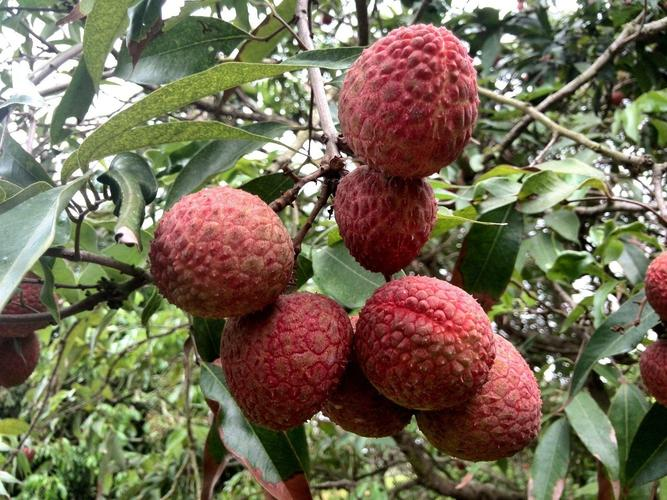litchi: (154, 33, 536, 454)
stem: (292, 1, 345, 187)
